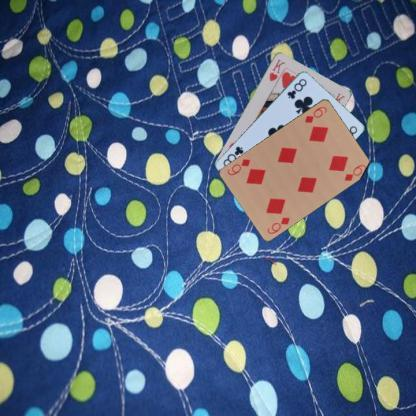6d: (264, 214, 292, 235), (302, 104, 328, 125)
8c: (284, 76, 308, 100)
Kh: (266, 56, 286, 83)
